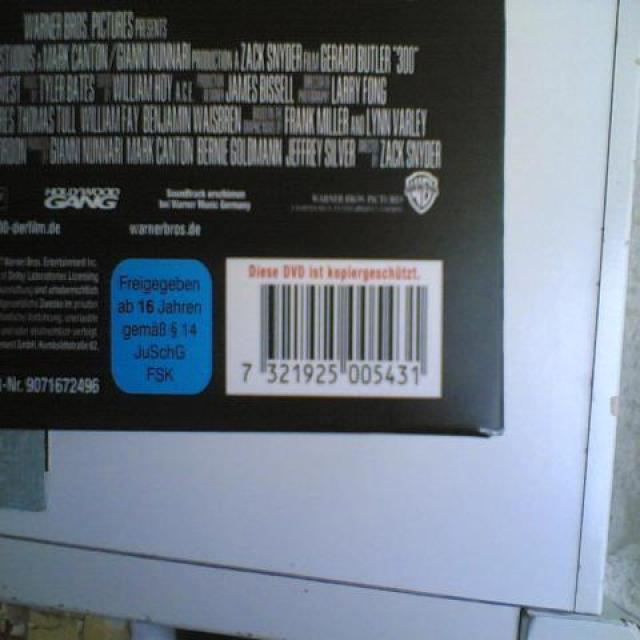Barcode: (226, 256, 443, 391)
